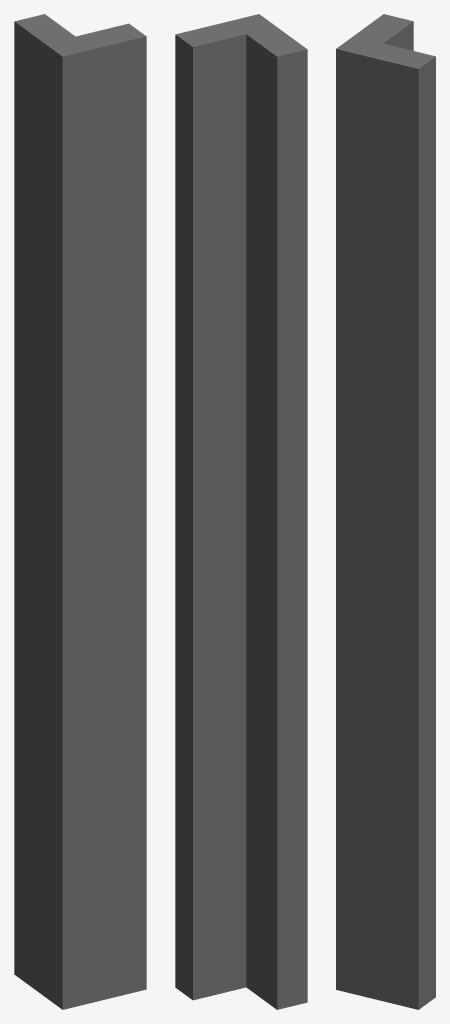
File: CornerBroken.fbx
The picture shows the model from 3 angles, left to right: view 1: azimuth 30°, elevation 25°; view 2: azimuth 210°, elevation 25°; view 3: azimuth 330°, elevation 25°; orthographic projection.
Visible parts, largest first — view 1: CornerBroken.001, CornerBroken.002; view 2: CornerBroken.001, CornerBroken.002; view 3: CornerBroken.001, CornerBroken.002.
Boxes of the visible parts, x1,y1,x2,y2 form: CornerBroken.001: (14,14,146,537); CornerBroken.002: (14,479,146,1009); CornerBroken.001: (175,14,307,550); CornerBroken.002: (175,506,307,1009); CornerBroken.001: (336,14,435,563); CornerBroken.002: (336,493,435,1009).
Bounding box in the file's own units: 27.58 × 300 × 27.58.
